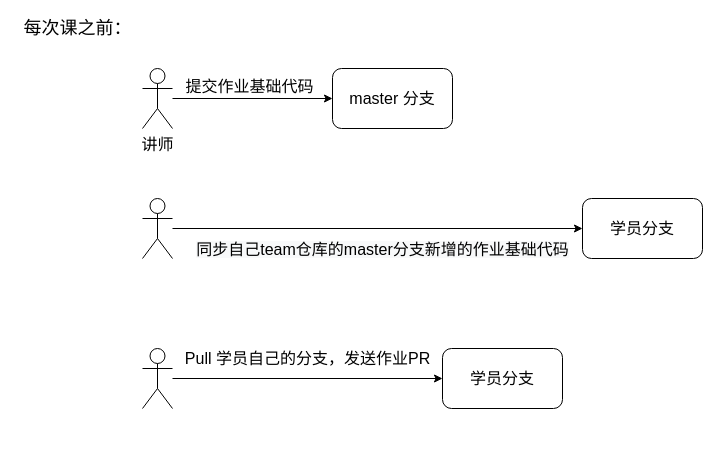
Image size: 720x451. Some labels were removed from this diagram. The shapes that lost their labels are listed below. From the top down, each one's centre as x and y in pixels, then its label:
At (x=157, y=228): "助教".
At (x=157, y=378): "学员".
